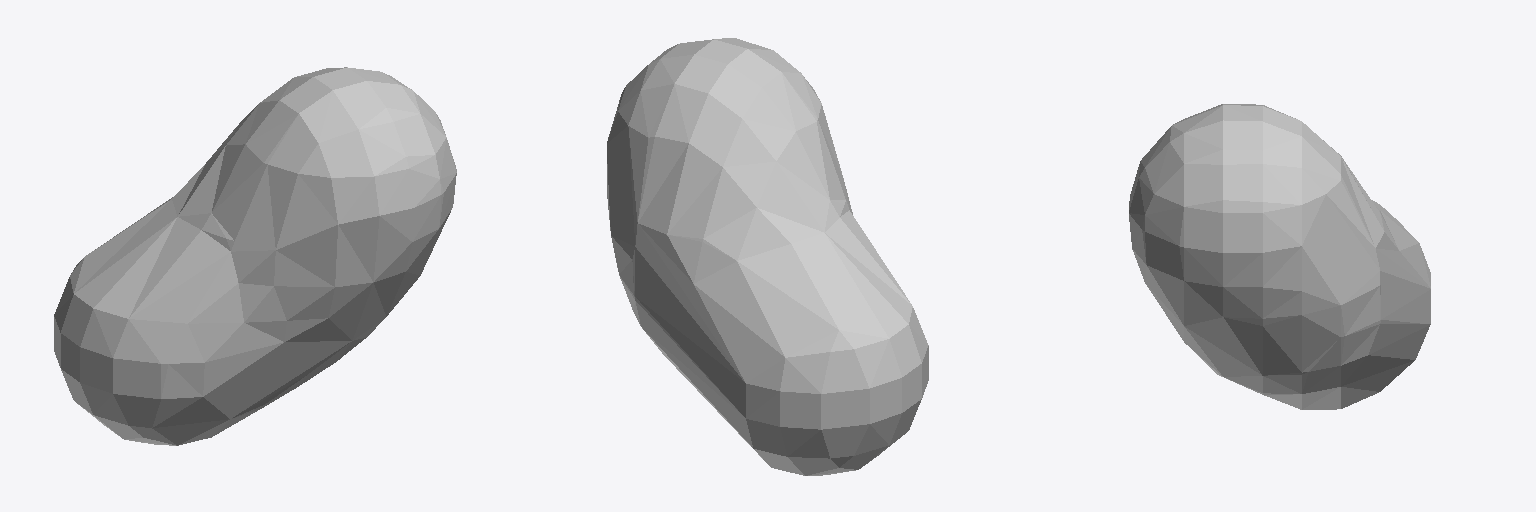
The model's file is bean.obj.
3 renders of one model, left to right at view 1: azimuth 30°, elevation 25°; view 2: azimuth 150°, elevation 25°; view 3: azimuth 270°, elevation 25°, orthographic.
Parts seen in each view (by area): view 1: Mball.003_Mesh.001; view 2: Mball.003_Mesh.001; view 3: Mball.003_Mesh.001.
Boxes of the visible parts, <box> form: Mball.003_Mesh.001: <box>54,67,456,445</box>; Mball.003_Mesh.001: <box>607,38,928,475</box>; Mball.003_Mesh.001: <box>1129,104,1430,409</box>.
Size of the model in its own units: 0.7402 by 0.7539 by 0.5884.